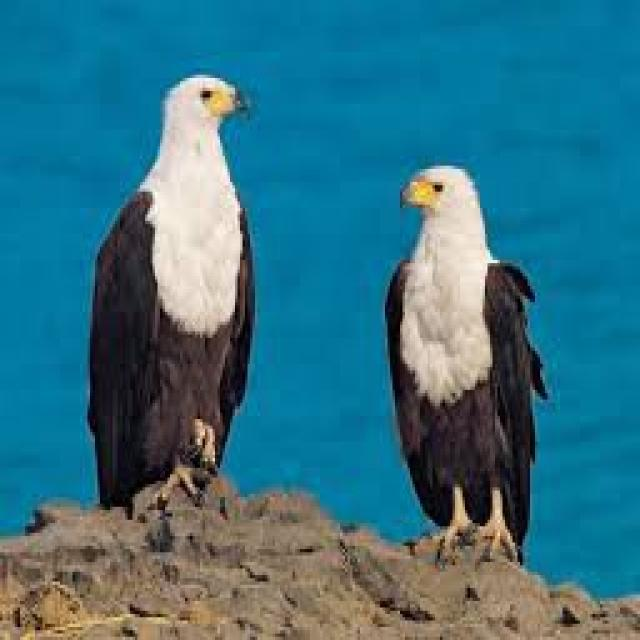Eagle: (85, 70, 265, 502), (382, 161, 539, 568)
